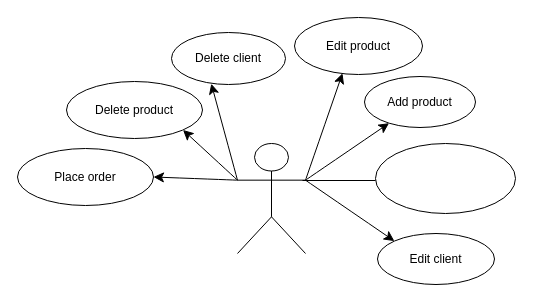
Image size: 533x302. Some labels were removed from this diagram. The shapes that lost their labels are listed below. From the top down, each one's box as (x1, y1, x2, y2) in pixels, then its label:
(236, 142, 306, 254): Simulation Manager
(374, 142, 516, 214): Add client
